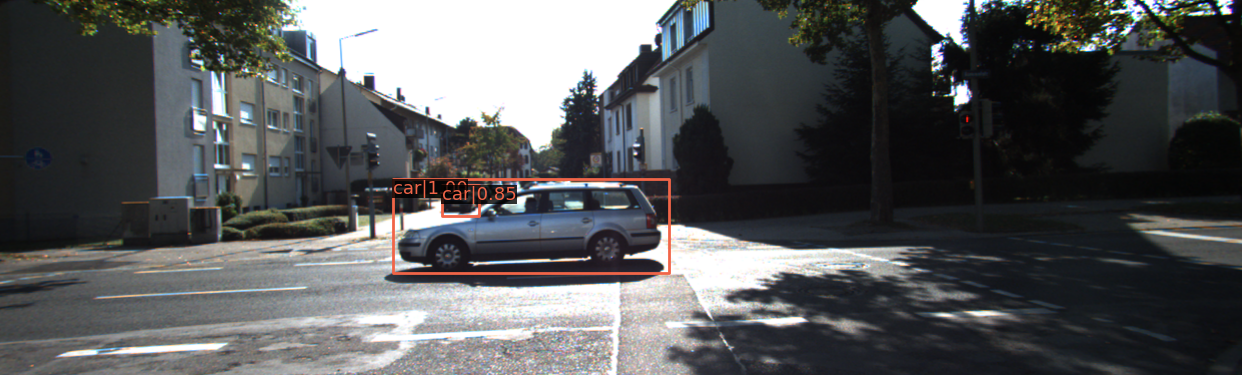car: (392, 181, 662, 272), (442, 189, 477, 213), (537, 185, 565, 209)
